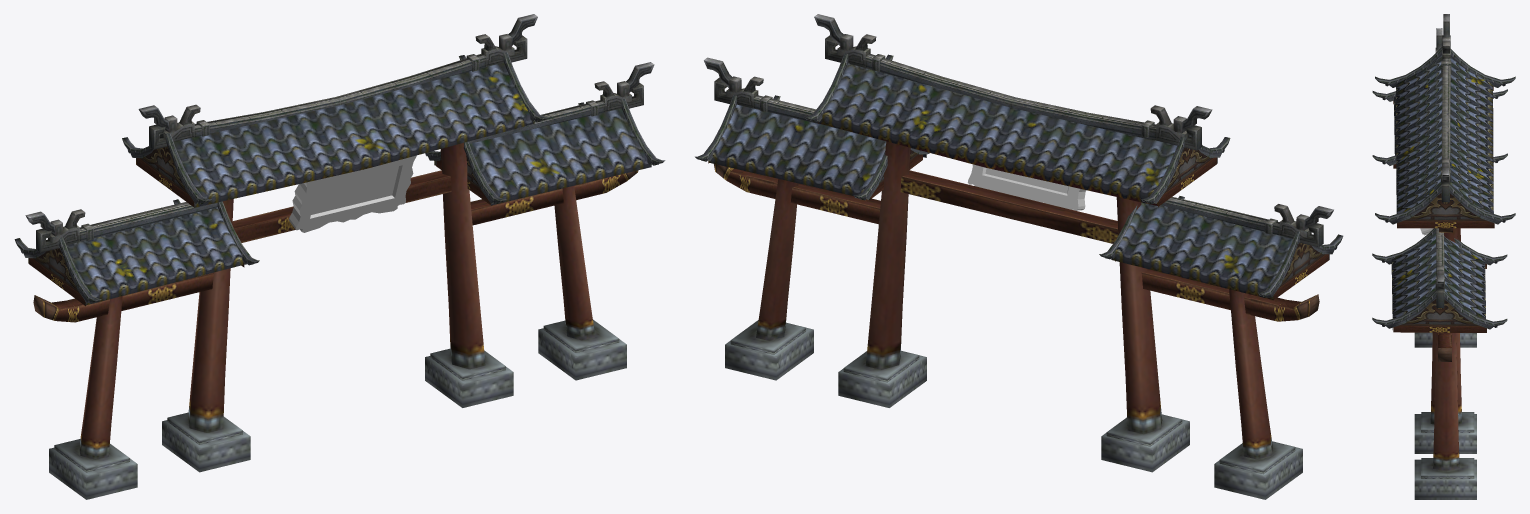
The model's file is S2_Build_XSC013.FBX.
3 renders of one model, left to right at view 1: azimuth 30°, elevation 25°; view 2: azimuth 150°, elevation 25°; view 3: azimuth 270°, elevation 25°, orthographic. The views are drawn at different scales.
Visible parts, largest first — view 1: S2_Build_XSC013; view 2: S2_Build_XSC013; view 3: S2_Build_XSC013.
Part boxes in pixels (bbox=[...]): S2_Build_XSC013: bbox=[14, 14, 665, 499]; S2_Build_XSC013: bbox=[695, 14, 1343, 499]; S2_Build_XSC013: bbox=[1372, 14, 1515, 499].
Bounding box in the file's own units: 2945 × 1607 × 705.
